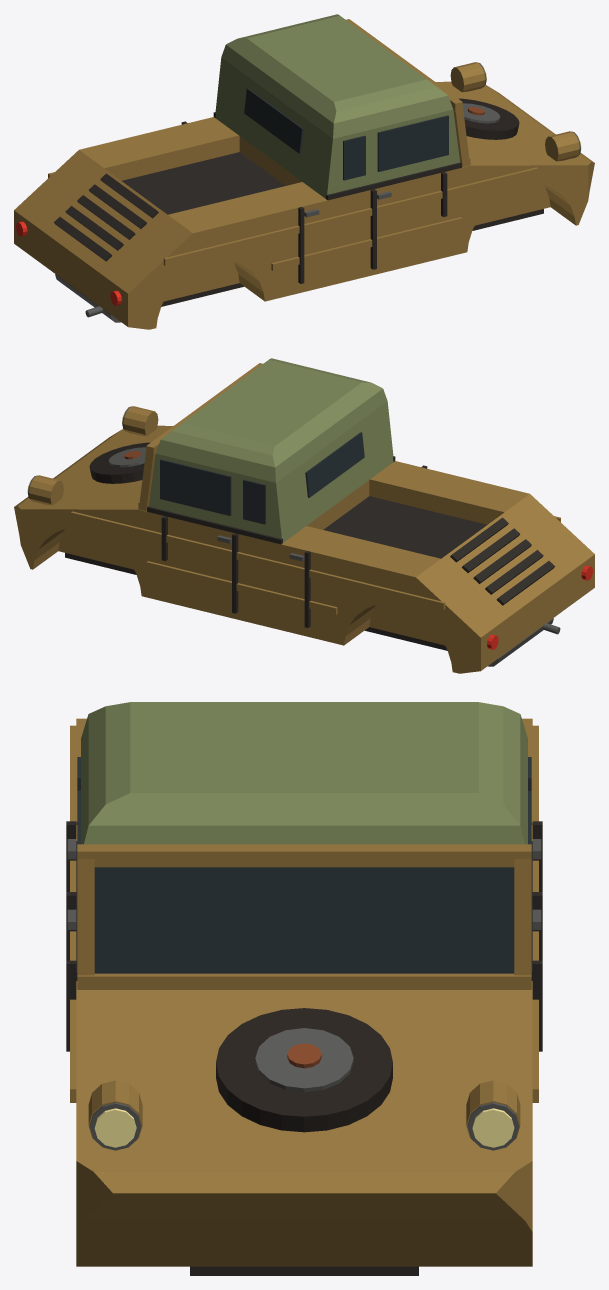
The model's file is base_jeep.glb.
The picture shows the model from 3 angles, top to bottom: view 1: azimuth 30°, elevation 25°; view 2: azimuth 150°, elevation 25°; view 3: azimuth 270°, elevation 25°; orthographic projection. The views are drawn at different scales.
Parts seen in each view (by area): view 1: base_jeep; view 2: base_jeep; view 3: base_jeep.
Part boxes in pixels (<box>): base_jeep: <box>14,14,594,329</box>; base_jeep: <box>14,358,594,673</box>; base_jeep: <box>66,702,542,1275</box>.
Bounding box in the file's own units: 4.51 × 1.65 × 1.94.
